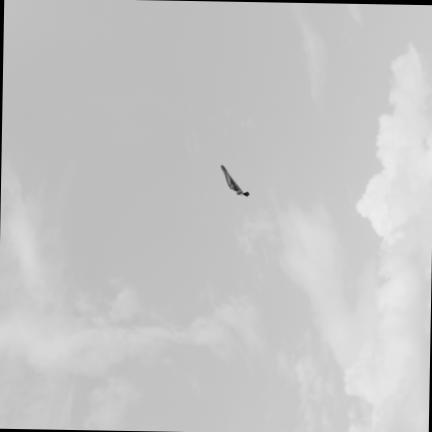Shahed: (220, 164, 248, 194)
